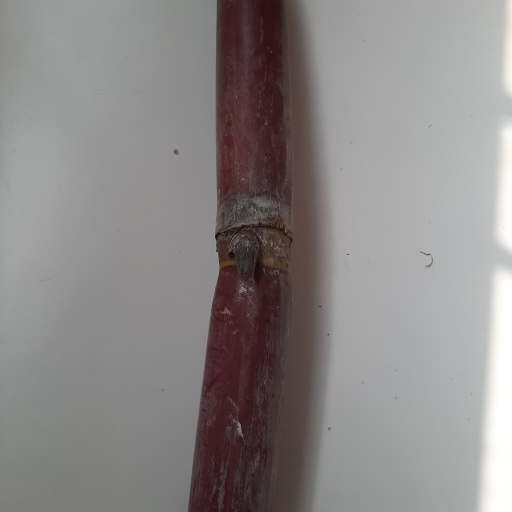Bud: (229, 230, 261, 283)
